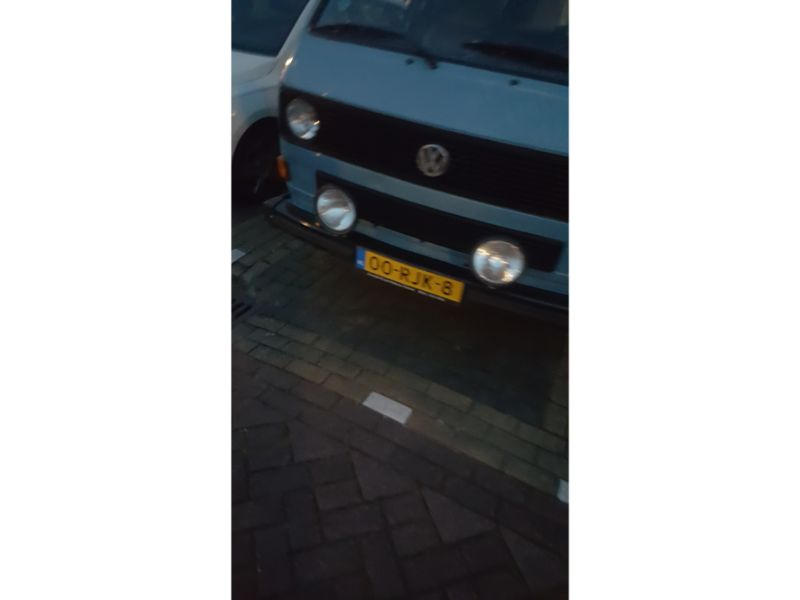kenteken: (354, 247, 474, 307)
